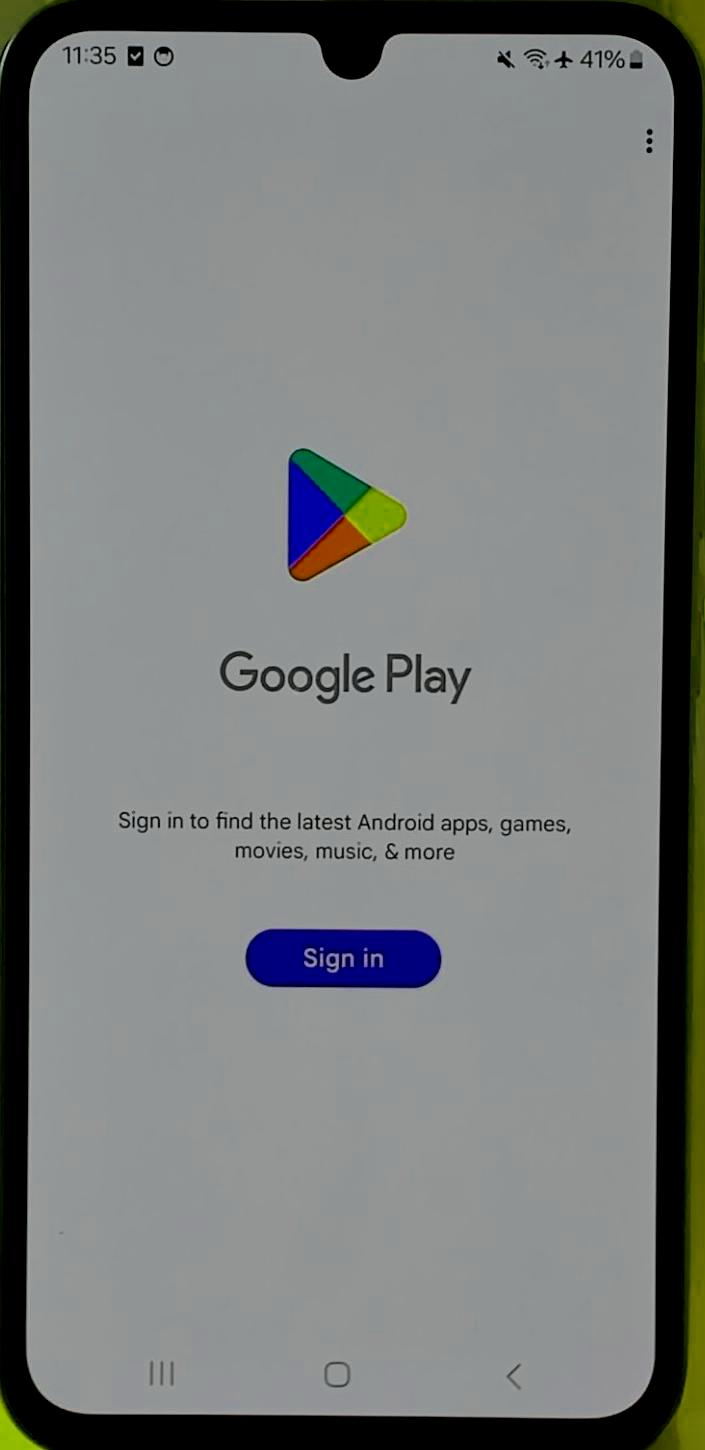CommunBotton: (236, 920, 448, 994)
menu: (621, 107, 670, 179)
